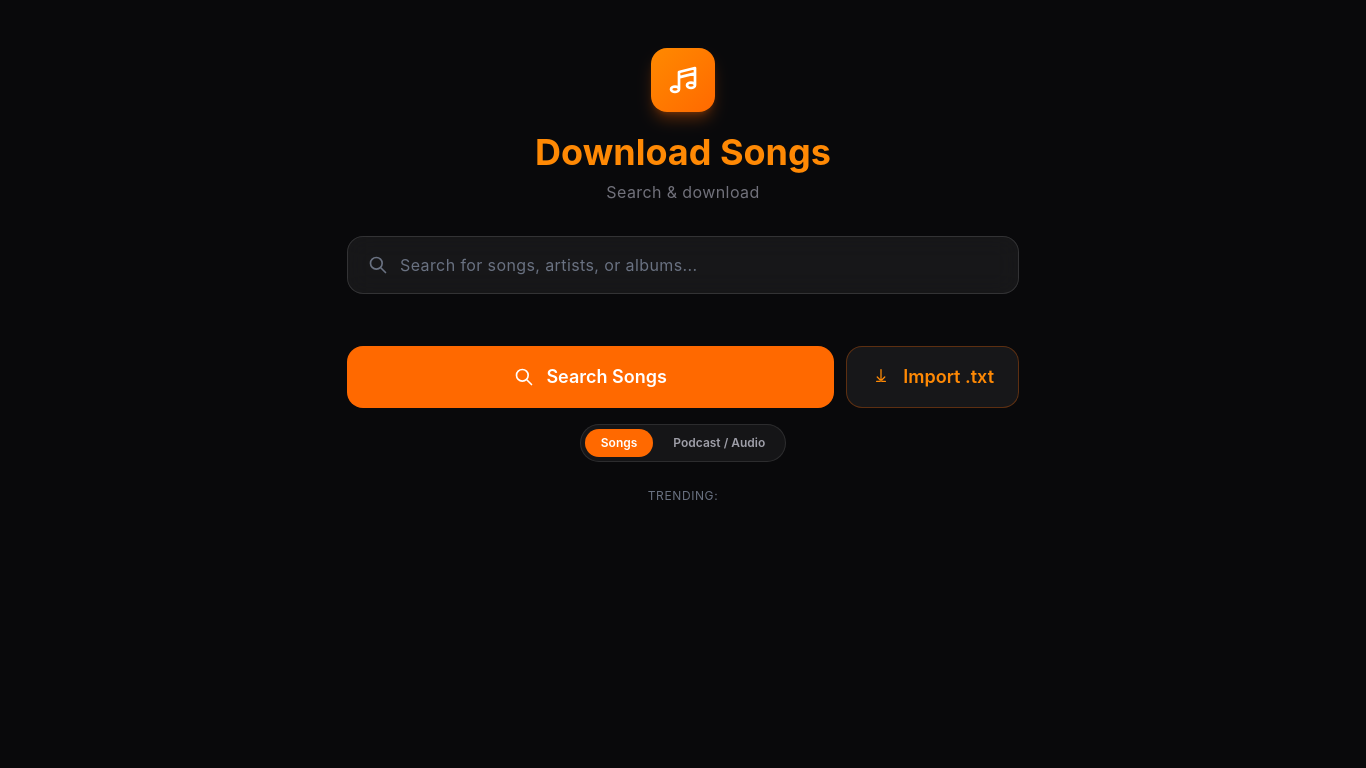
it: Download search › re-downloads an owned song onto the existing file
Type "Midnight City" into the field with placeholder "Search for songs, artists, or albums..." at point(709, 265), box top-left (400, 237), bottom-right (1018, 293)
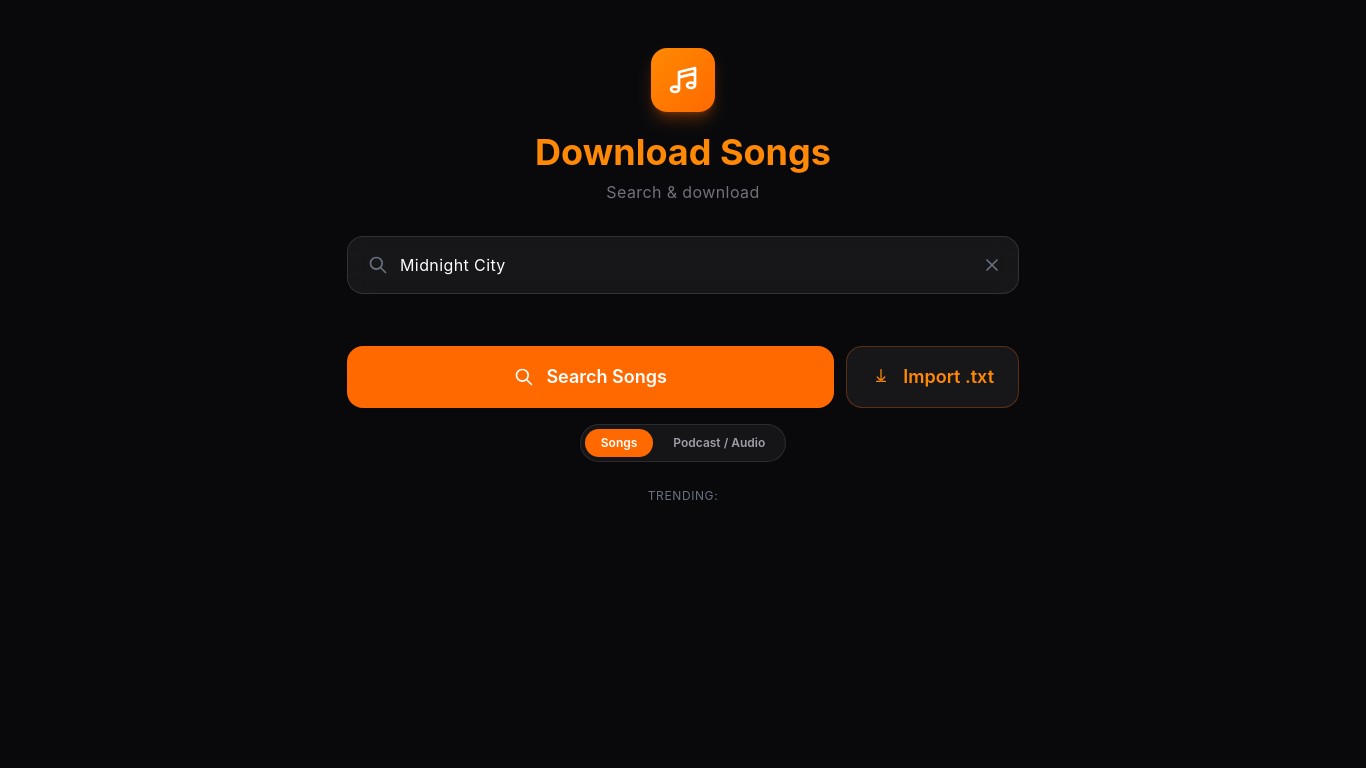
Click the button "Search Songs" at point(591, 377), box top-left (347, 346), bottom-right (834, 408)
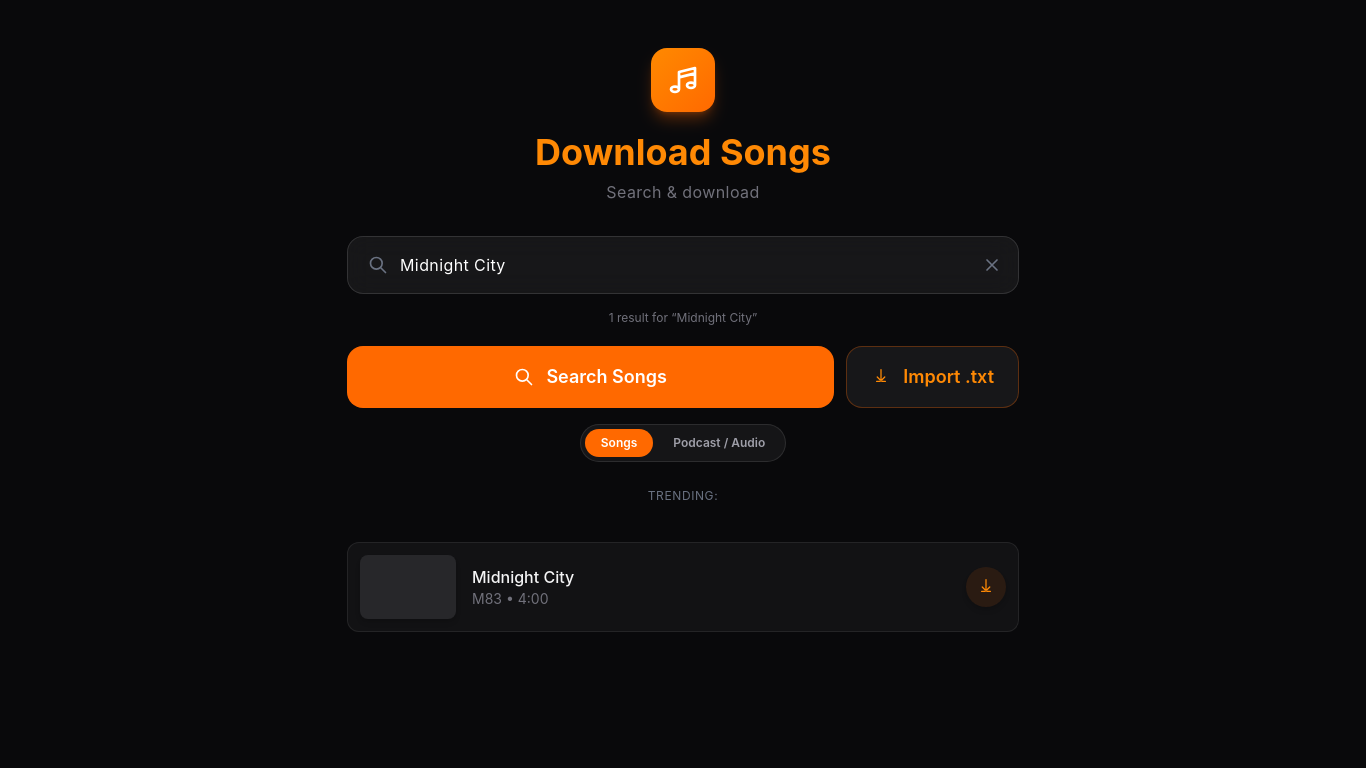
Click the button named "Download Midnight City" at point(986, 587), box top-left (966, 567), bottom-right (1006, 607)
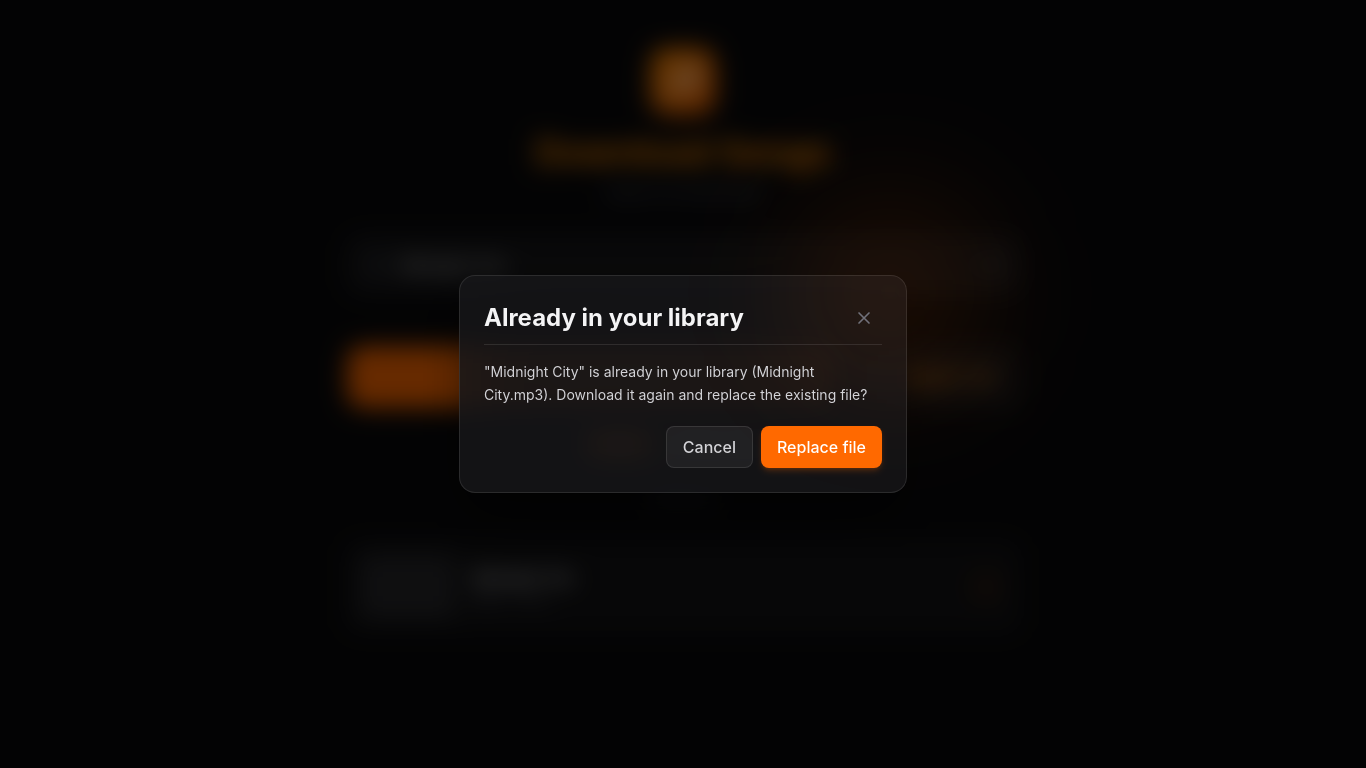
Expected: the heading "Already in your library" is shown, top-left (484, 302), bottom-right (744, 334)
Click the button "Replace file" at point(822, 447), box top-left (761, 426), bottom-right (882, 468)
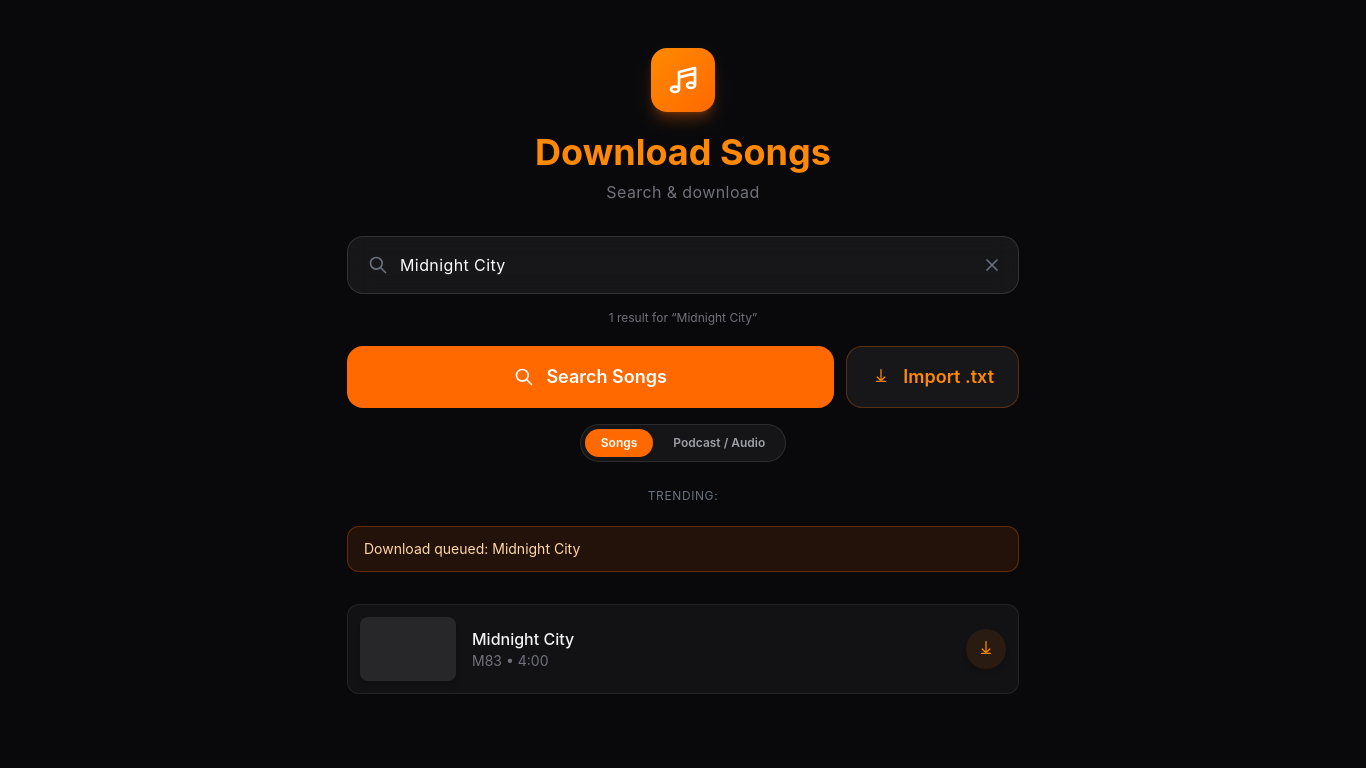
Expected: the text "Download queued: Midnight City" is shown, top-left (347, 526), bottom-right (1019, 572)
